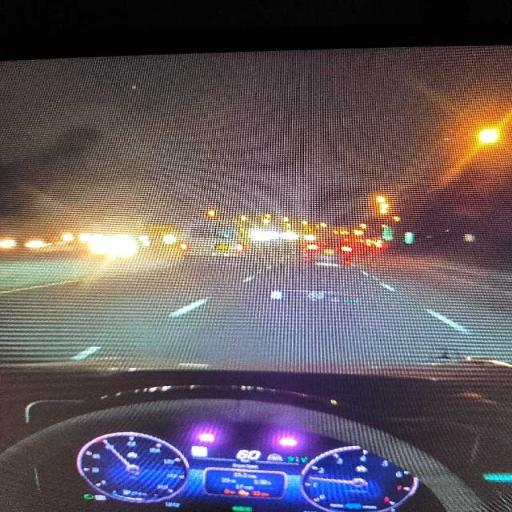car: (303, 236, 355, 265)
lane: (0, 259, 499, 371), (0, 260, 247, 363), (359, 255, 511, 361)
